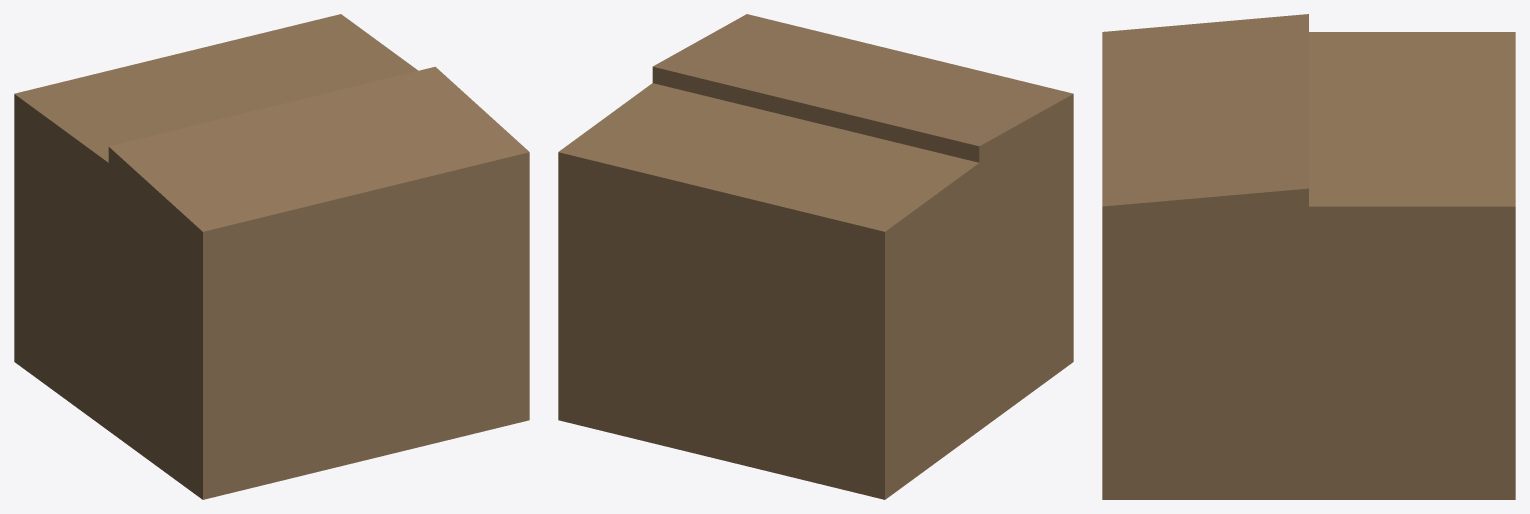
The model's file is S.SlightlyOpenBox.fbx.
The picture shows the model from 3 angles, left to right: view 1: azimuth 30°, elevation 25°; view 2: azimuth 150°, elevation 25°; view 3: azimuth 270°, elevation 25°; orthographic projection. The views are drawn at different scales.
Parts seen in each view (by area): view 1: Slightly Open Box; view 2: Slightly Open Box; view 3: Slightly Open Box.
Part boxes in pixels (x1,y1,x2,y2): Slightly Open Box: (14,14,529,499); Slightly Open Box: (558,14,1073,499); Slightly Open Box: (1102,14,1515,499).
Bounding box in the file's own units: 143 × 119 × 143.
